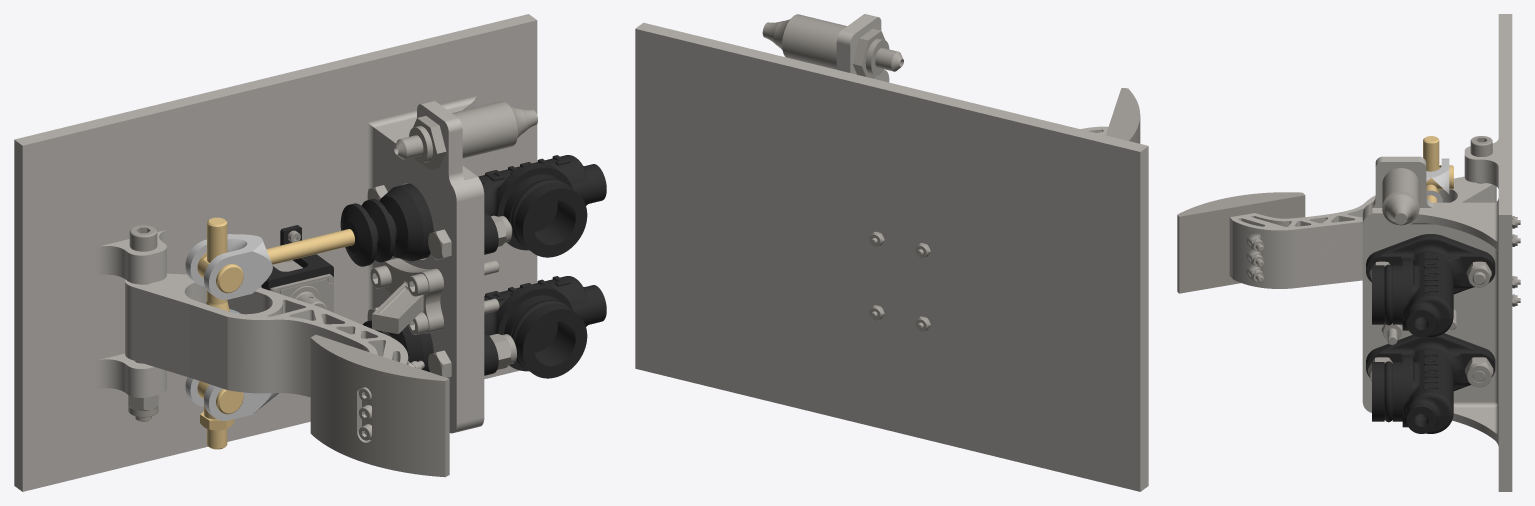
The model's file is brake-pedal.glb.
The picture shows the model from 3 angles, left to right: view 1: azimuth 30°, elevation 25°; view 2: azimuth 150°, elevation 25°; view 3: azimuth 270°, elevation 25°; orthographic projection. The views are drawn at different scales.
Visible parts, largest first — view 1: Mounting Plate:1, Tilton master cylinder 75 series .625 to .75 no reservoir:1 (×2), Pedal2:1, Pedal Pad:1, mockup presure sensor:1, Stop Plate:1, 72-803 (4):1, 72-803:1, Piston:2, 72-803 (2):1, 72-803 (5):1, switch holder:1 (+3 smaller); view 2: Mounting Plate:1, mockup presure sensor:1, Pedal Pad:1; view 3: Mounting Plate:1, Tilton master cylinder 75 series .625 to .75 no reservoir:1 (×2), Pedal2:1, Pedal Pad:1, mockup presure sensor:1, 72-803:1, Nylon Insert Locknut ASME B18.16.6 - 5/16-18 NU Steel Grade , 72-803 (4):1, Broached Hexagon Socket Head Cap Screw ASME B18.3.1M - M8x1., Nylon Insert Locknut ASME B18.16.6 - 5/16-18 NE Steel Grade .
Boxes of the visible parts, <box> form: Mounting Plate:1: <box>14,14,537,491</box>; Tilton master cylinder 75 series .625 to .75 no reservoir:1 (×2): <box>340,155,606,378</box>; Pedal2:1: <box>125,273,414,397</box>; Pedal Pad:1: <box>310,334,449,477</box>; mockup presure sensor:1: <box>394,101,537,169</box>; Stop Plate:1: <box>372,258,443,334</box>; 72-803 (4):1: <box>185,234,272,299</box>; 72-803:1: <box>197,217,243,311</box>; Piston:2: <box>266,229,354,264</box>; 72-803 (2):1: <box>197,381,243,449</box>; 72-803 (5):1: <box>185,377,278,420</box>; switch holder:1: <box>261,225,333,290</box>; Mounting Plate:1: <box>635,14,1148,491</box>; mockup presure sensor:1: <box>762,14,903,78</box>; Pedal Pad:1: <box>1106,88,1140,143</box>; Mounting Plate:1: <box>1362,14,1512,491</box>; Tilton master cylinder 75 series .625 to .75 no reservoir:1 (×2): <box>1366,234,1495,433</box>; Pedal2:1: <box>1229,176,1496,288</box>; Pedal Pad:1: <box>1177,192,1305,293</box>; mockup presure sensor:1: <box>1382,168,1419,225</box>; 72-803:1: <box>1423,136,1453,193</box>; Nylon Insert Locknut ASME B18.16.6 - 5/16-18 NU Steel Grade : <box>1465,357,1493,387</box>; 72-803 (4):1: <box>1426,158,1449,202</box>; Broached Hexagon Socket Head Cap Screw ASME B18.3.1M - M8x1.: <box>1470,136,1492,183</box>; Nylon Insert Locknut ASME B18.16.6 - 5/16-18 NE Steel Grade : <box>1466,261,1491,287</box>.
Bounding box in the file's own units: 0.2865 × 0.18 × 0.2022.
